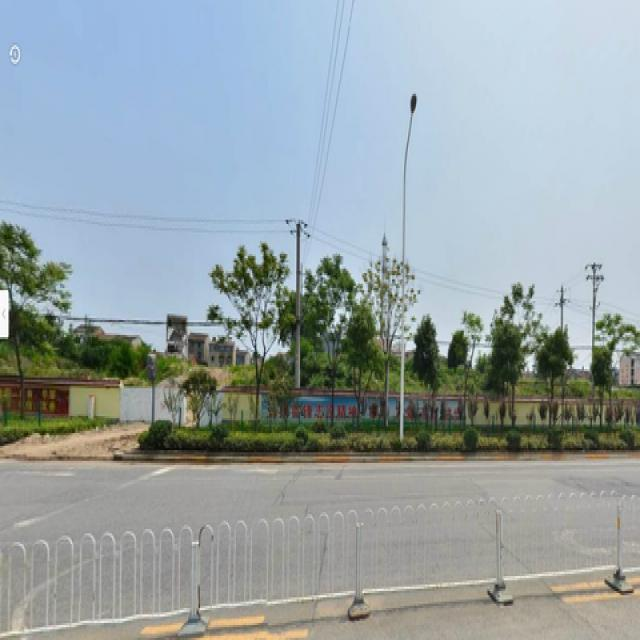koel: (229, 271, 280, 405), (314, 271, 358, 412), (370, 277, 418, 399)
